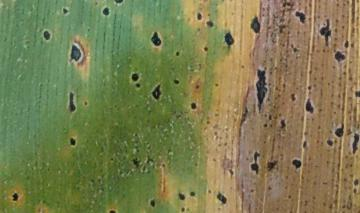tarspot: (251, 64, 272, 116), (318, 18, 336, 52), (67, 40, 87, 66), (248, 149, 262, 179), (249, 12, 264, 36), (147, 28, 164, 49), (303, 96, 317, 121), (67, 90, 78, 118), (215, 188, 232, 206), (150, 82, 165, 102), (223, 30, 238, 49), (293, 9, 309, 26), (332, 49, 348, 66), (66, 136, 81, 153), (9, 189, 24, 206), (334, 124, 348, 140), (351, 132, 360, 155), (290, 155, 303, 170), (147, 195, 159, 211), (41, 29, 54, 43), (187, 99, 200, 113), (128, 70, 142, 82), (205, 18, 217, 31), (101, 5, 111, 20), (172, 76, 183, 89), (102, 206, 122, 213), (279, 117, 289, 131), (176, 191, 187, 203), (61, 6, 72, 17), (193, 81, 203, 92), (351, 87, 360, 99), (174, 49, 183, 60), (201, 43, 210, 54), (343, 37, 351, 49), (110, 1, 129, 6), (196, 10, 203, 23), (82, 98, 91, 108), (351, 186, 360, 196), (261, 121, 270, 131), (188, 189, 199, 197), (326, 138, 334, 149), (352, 176, 360, 187), (134, 83, 143, 91), (176, 207, 188, 213), (212, 82, 221, 89)
